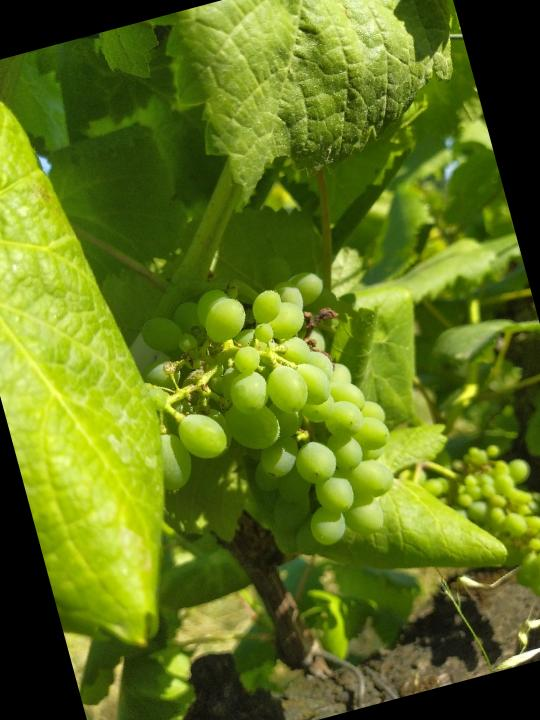grape: (120, 254, 414, 585), (419, 428, 540, 627)
